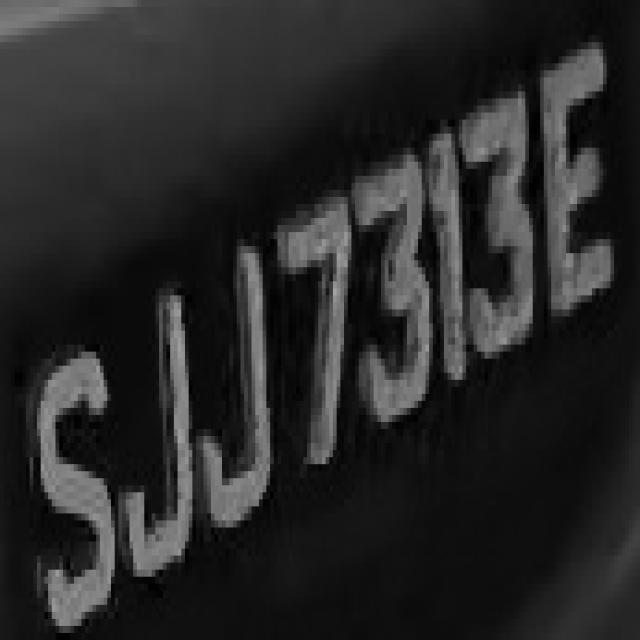1: (414, 120, 478, 422)
3: (326, 155, 440, 464), (448, 56, 536, 387)
7: (255, 204, 355, 485)
E: (533, 35, 618, 352)
J: (196, 232, 281, 542), (115, 302, 207, 577)
S: (26, 330, 118, 619)
